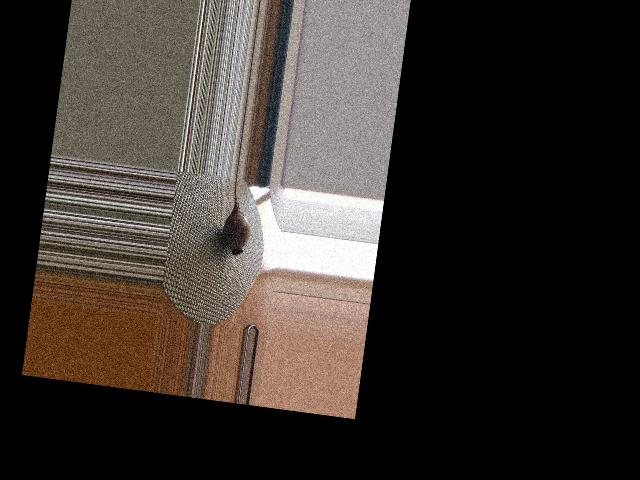beet: (220, 178, 256, 257)
